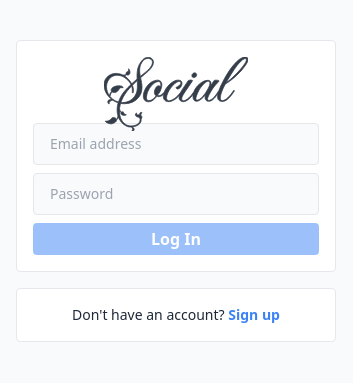
it: given incorrect password, error is displayed on button click
The image size is (353, 383).
Type "email@email.com" into the field named "enter your email address" at (176, 144), box [33, 123, 319, 165]
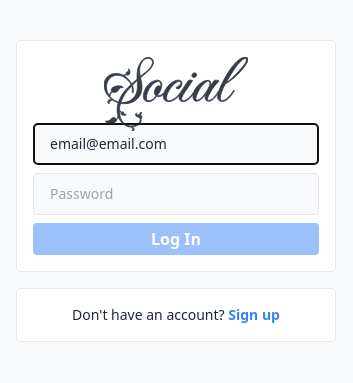
Type "wrongpassword" into the password field named "enter your password" at (176, 194), box [33, 173, 319, 215]
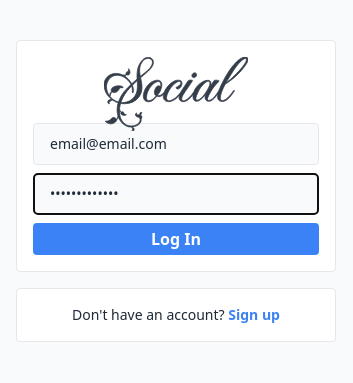
Click the button with aria-label "sign in" at (176, 239), box [33, 223, 319, 255]
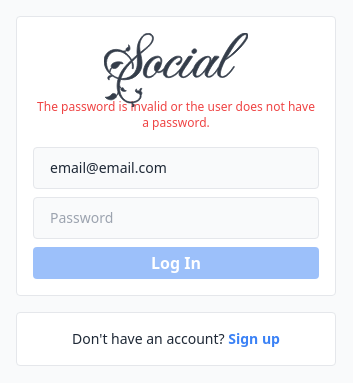
Expected: the message named "error message" reads "The password is invalid or the user does not have a password.", [37, 98, 315, 131]
